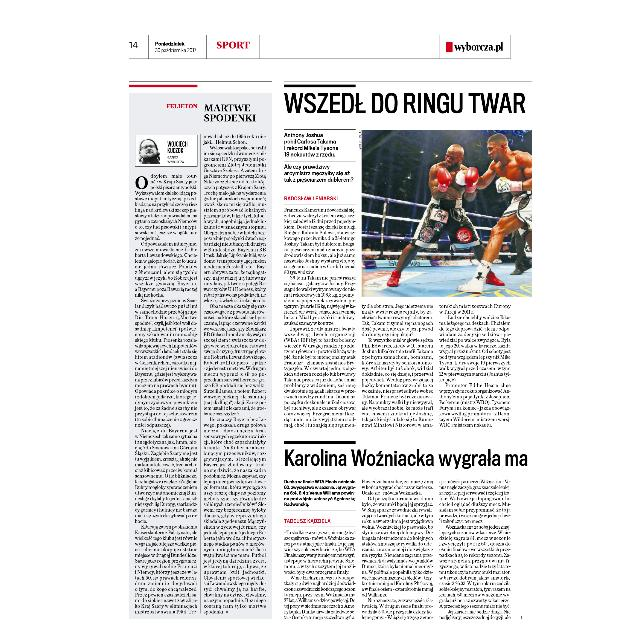article: (282, 84, 536, 432), (132, 97, 268, 615), (282, 441, 530, 624)
